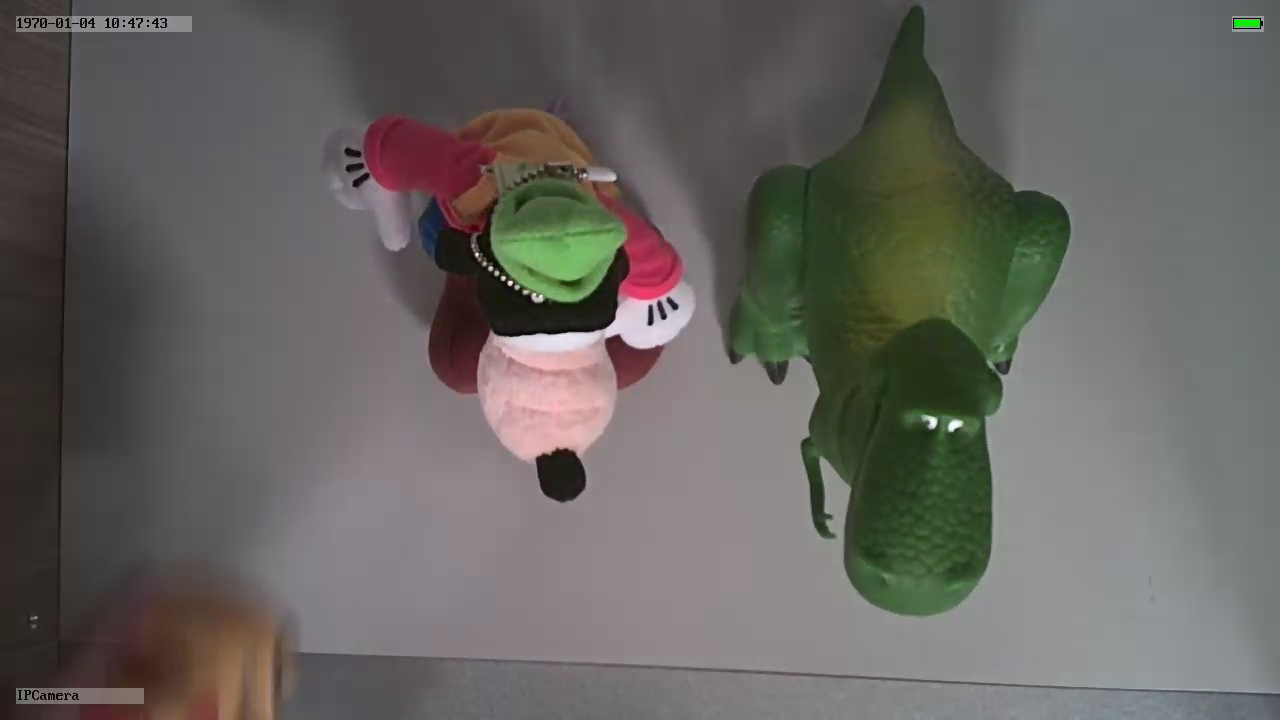goofy: (323, 98, 697, 507)
